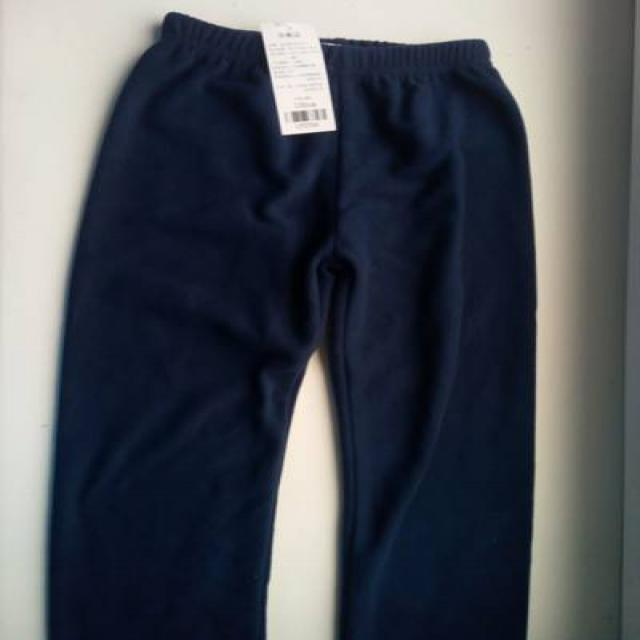Clothes -Biodegradable-: (43, 12, 536, 640)
